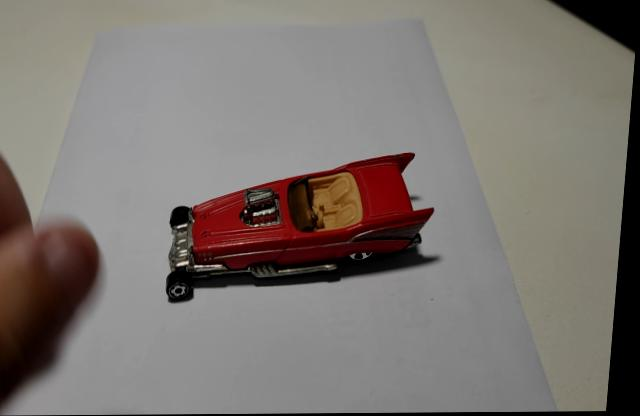03_V8: (171, 154, 439, 305)
